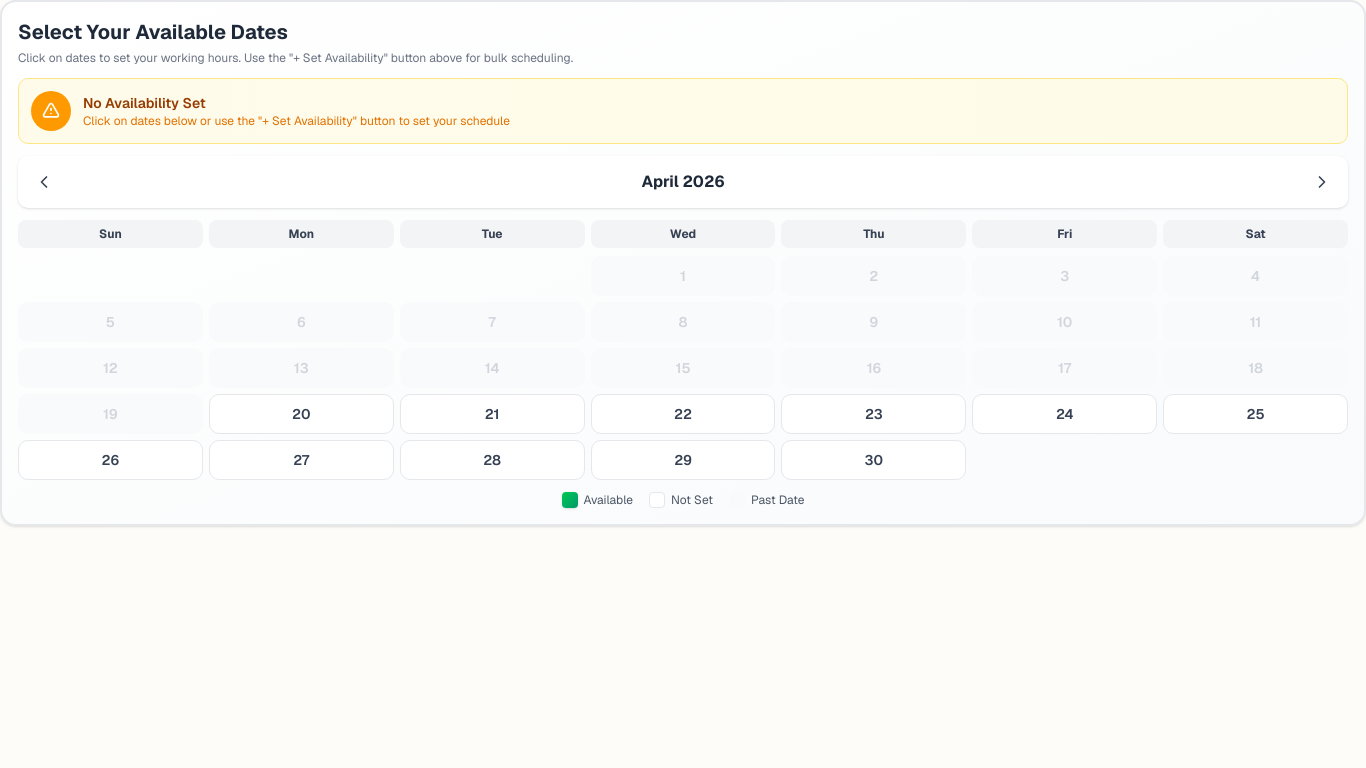
Test: DentistCalendarAvailability › shows old 'Set Working Hours' modal when onDateClick is NOT provided (backward compat)
Click the button "25": (1256, 414) [1163,394,1348,434]
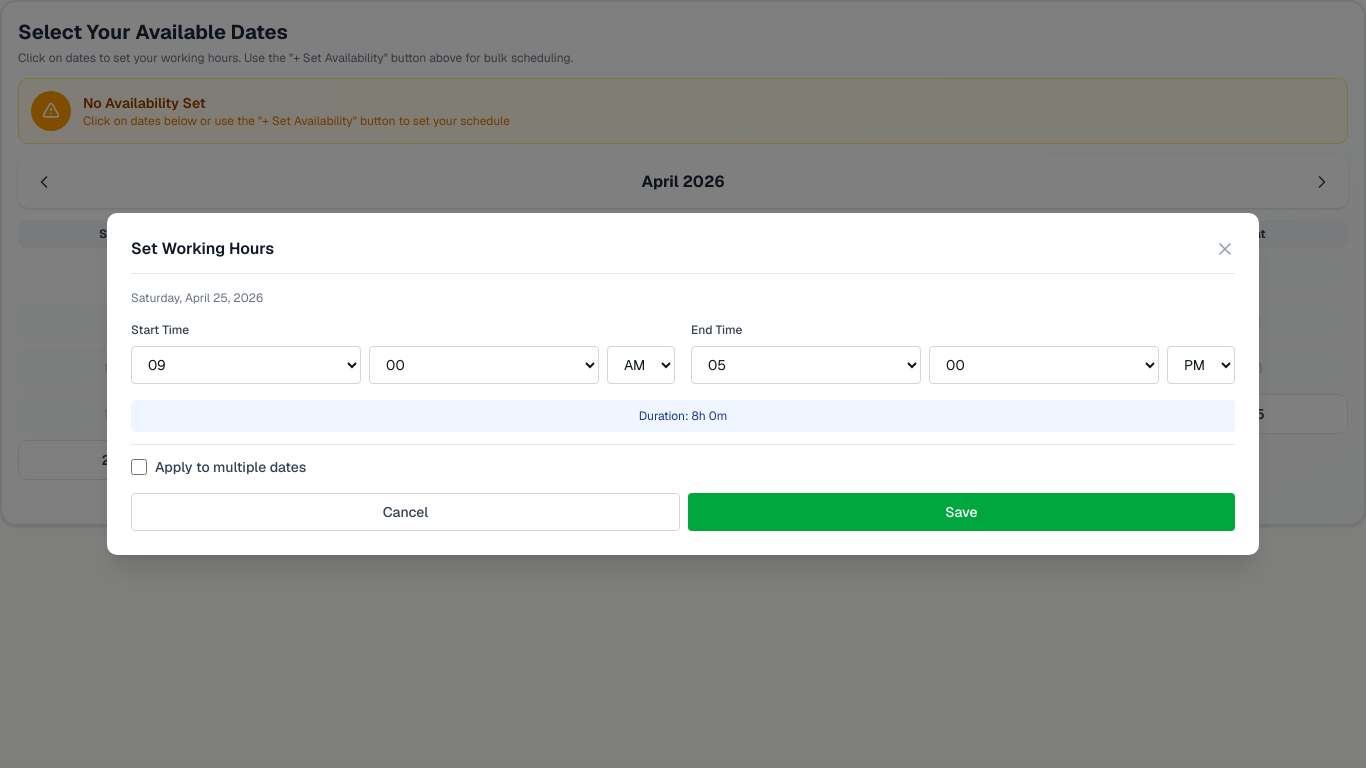
Expected: the heading "Set Working Hours" is shown, [131,237,274,261]
